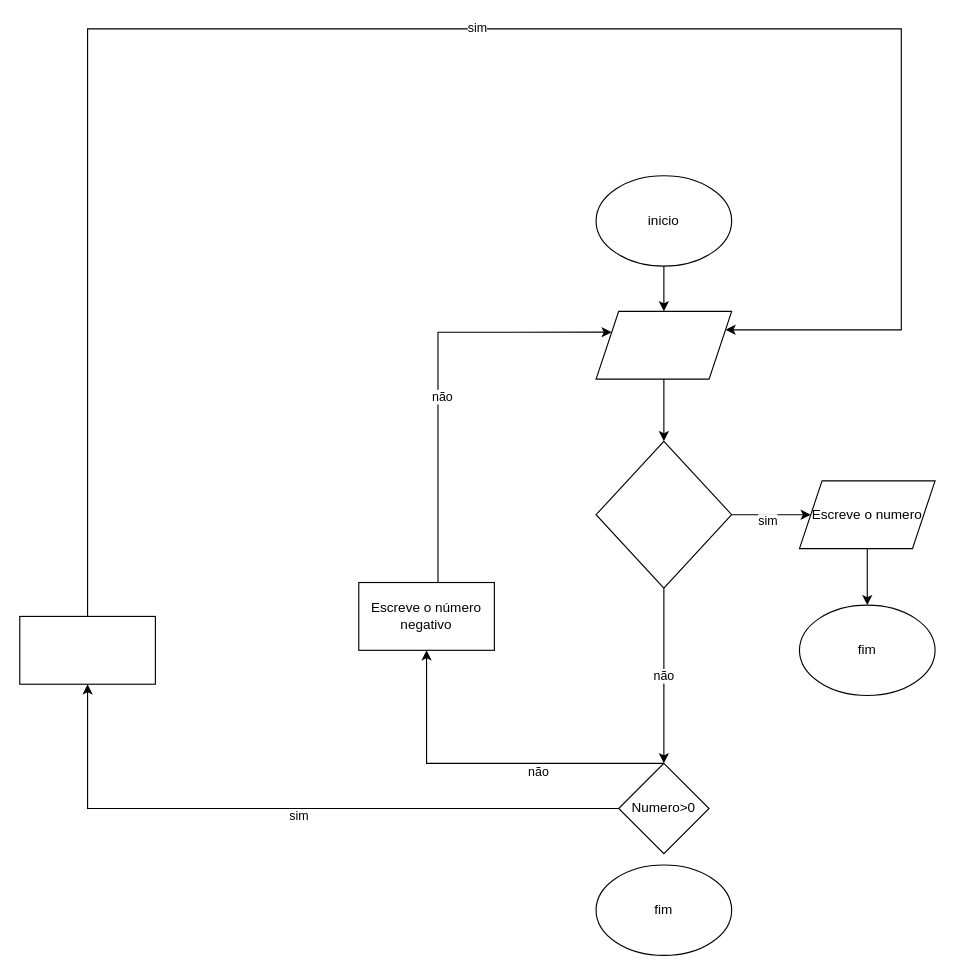
This 955x975 diagram has some shape labels left out. Each missing label, with the box of its shape:
Escreve o número positivo: (19, 615, 155, 684)
Ler número: (595, 310, 732, 379)
Número=0: (595, 440, 732, 588)
